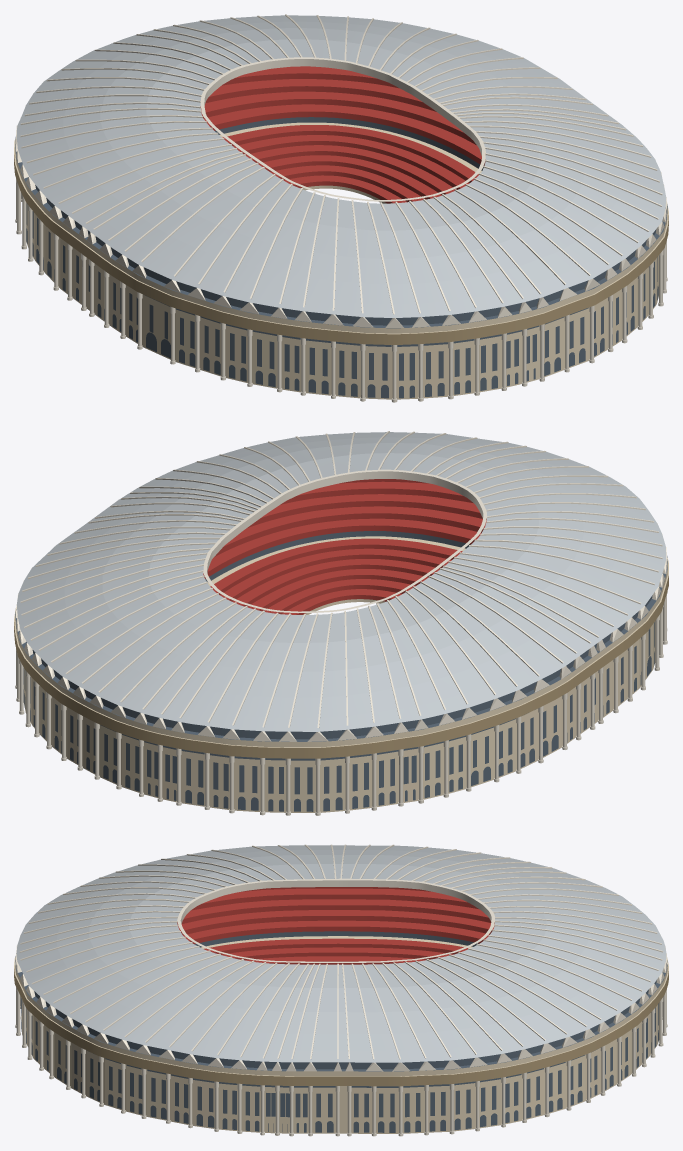
The model's file is moscow-luzhniki.detail.glb.
3 views of the same model, one above another, from view 1: azimuth 30°, elevation 25°; view 2: azimuth 150°, elevation 25°; view 3: azimuth 270°, elevation 25° (orthographic). The views are drawn at different scales.
Visible parts, largest first — view 1: Luzhniki Stadium; view 2: Luzhniki Stadium; view 3: Luzhniki Stadium.
Boxes of the visible parts, <box> form: Luzhniki Stadium: <box>14,14,668,402</box>; Luzhniki Stadium: <box>14,431,668,815</box>; Luzhniki Stadium: <box>14,844,668,1136</box>.
Size of the model in its own units: 250 by 56.9 by 316.
